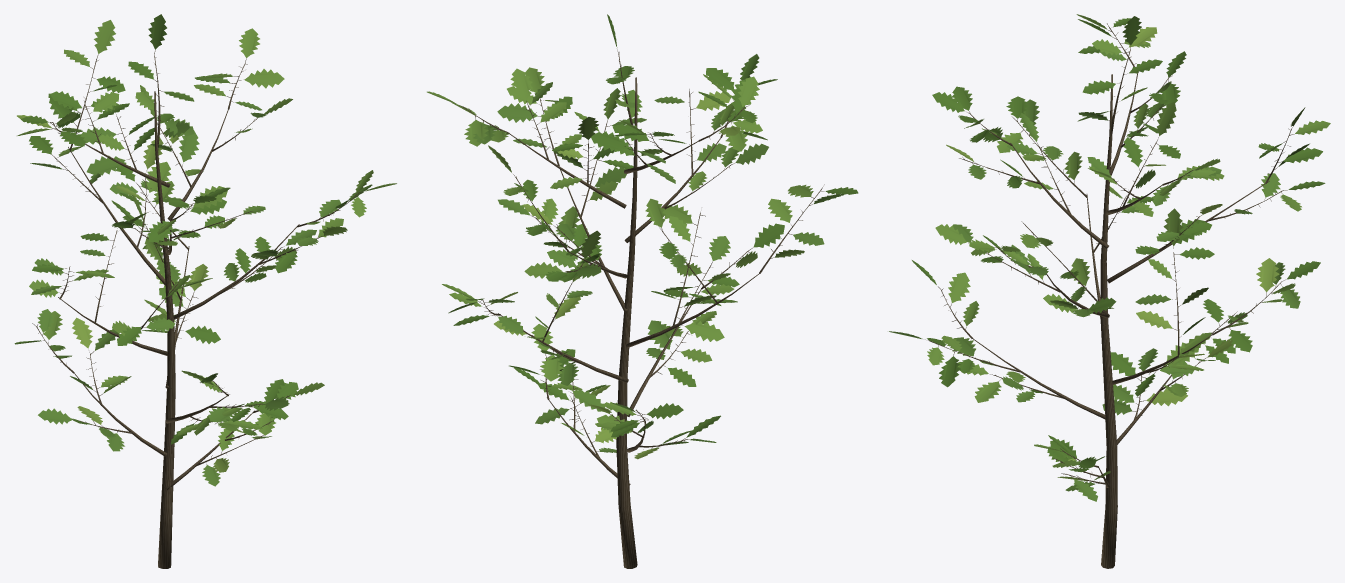
File: Sessile_Oak_Sapling_01_LOD1.fbx
3 renders of one model, left to right at view 1: azimuth 30°, elevation 25°; view 2: azimuth 150°, elevation 25°; view 3: azimuth 270°, elevation 25°, orthographic. The views are drawn at different scales.
Parts seen in each view (by area): view 1: Sessile_Oak_Sapling_01_Foliage_LOD1, Sessile_Oak_Sapling_01_Bark_LOD1; view 2: Sessile_Oak_Sapling_01_Foliage_LOD1, Sessile_Oak_Sapling_01_Bark_LOD1; view 3: Sessile_Oak_Sapling_01_Foliage_LOD1, Sessile_Oak_Sapling_01_Bark_LOD1.
Part boxes in pixels (bbox=[...]): Sessile_Oak_Sapling_01_Foliage_LOD1: bbox=[14, 14, 396, 486]; Sessile_Oak_Sapling_01_Bark_LOD1: bbox=[32, 50, 361, 568]; Sessile_Oak_Sapling_01_Foliage_LOD1: bbox=[427, 14, 858, 459]; Sessile_Oak_Sapling_01_Bark_LOD1: bbox=[459, 49, 824, 568]; Sessile_Oak_Sapling_01_Foliage_LOD1: bbox=[889, 14, 1330, 501]; Sessile_Oak_Sapling_01_Bark_LOD1: bbox=[925, 23, 1294, 568].
Size of the model in its own units: 133 by 200 by 145.
5 materials, 1 textured.
